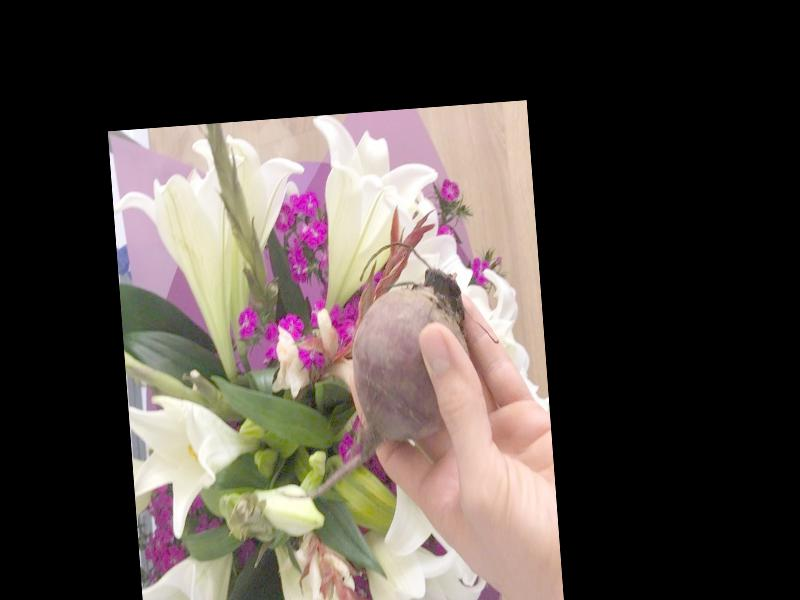Beet: (261, 238, 478, 501)
